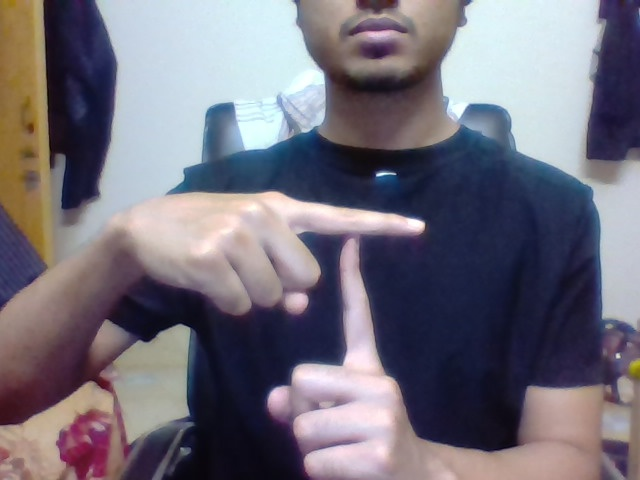T: (320, 188, 437, 353)
